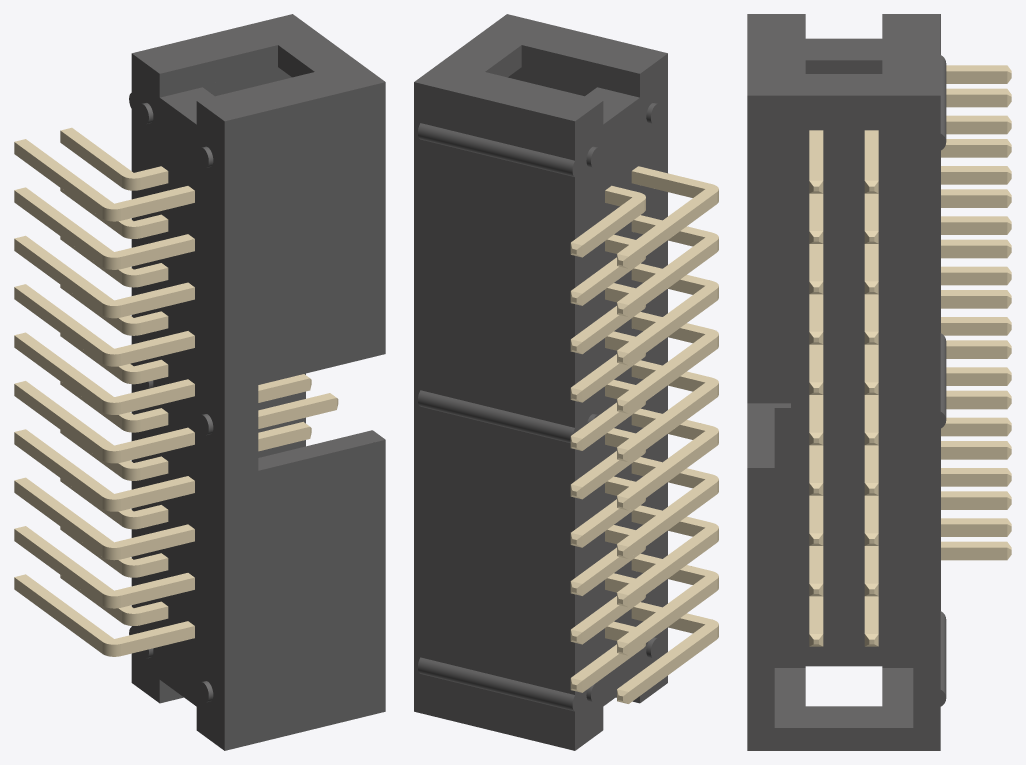
The model's file is IDC-Header_2x10_P2.54mm_Horizontal.glb.
3 views of the same model, side by side, from view 1: azimuth 30°, elevation 25°; view 2: azimuth 150°, elevation 25°; view 3: azimuth 270°, elevation 25° (orthographic). The views are drawn at different scales.
Parts seen in each view (by area): view 1: Shape_IndexedFaceSet, Shape_IndexedFaceSet.007, Shape_IndexedFaceSet.001, Shape_IndexedFaceSet.011, Shape_IndexedFaceSet.110, Shape_IndexedFaceSet.014, Shape_IndexedFaceSet.111, Shape_IndexedFaceSet.093, Shape_IndexedFaceSet.195, Shape_IndexedFaceSet.042, Shape_IndexedFaceSet.059, Shape_IndexedFaceSet.178 (+31 smaller); view 2: Shape_IndexedFaceSet.008, Shape_IndexedFaceSet.007, Shape_IndexedFaceSet.001, Shape_IndexedFaceSet.009, Shape_IndexedFaceSet.023, Shape_IndexedFaceSet.025, Shape_IndexedFaceSet.024, Shape_IndexedFaceSet.178, Shape_IndexedFaceSet.161, Shape_IndexedFaceSet.110, Shape_IndexedFaceSet.076, Shape_IndexedFaceSet.059 (+48 smaller); view 3: Shape_IndexedFaceSet.017, Shape_IndexedFaceSet.002, Shape_IndexedFaceSet.001, Shape_IndexedFaceSet.013, Shape_IndexedFaceSet.004, Shape_IndexedFaceSet.005, Shape_IndexedFaceSet.026, Shape_IndexedFaceSet.178, Shape_IndexedFaceSet.348, Shape_IndexedFaceSet.127, Shape_IndexedFaceSet.042, Shape_IndexedFaceSet.144 (+38 smaller).
Boxes of the visible parts, x1,y1,x2,y2 form: Shape_IndexedFaceSet: [224, 82, 385, 750]; Shape_IndexedFaceSet.007: [129, 53, 224, 750]; Shape_IndexedFaceSet.001: [132, 14, 384, 121]; Shape_IndexedFaceSet.011: [159, 45, 277, 97]; Shape_IndexedFaceSet.110: [14, 381, 336, 451]; Shape_IndexedFaceSet.014: [202, 67, 305, 457]; Shape_IndexedFaceSet.111: [121, 398, 336, 462]; Shape_IndexedFaceSet.093: [14, 429, 194, 499]; Shape_IndexedFaceSet.195: [14, 187, 194, 257]; Shape_IndexedFaceSet.042: [14, 574, 194, 644]; Shape_IndexedFaceSet.059: [14, 526, 194, 596]; Shape_IndexedFaceSet.178: [14, 139, 194, 209]; Shape_IndexedFaceSet.008: [414, 82, 574, 750]; Shape_IndexedFaceSet.007: [572, 53, 667, 750]; Shape_IndexedFaceSet.001: [414, 14, 667, 121]; Shape_IndexedFaceSet.009: [521, 45, 639, 97]; Shape_IndexedFaceSet.023: [418, 657, 574, 711]; Shape_IndexedFaceSet.025: [418, 123, 574, 176]; Shape_IndexedFaceSet.024: [418, 390, 574, 443]; Shape_IndexedFaceSet.178: [617, 166, 718, 256]; Shape_IndexedFaceSet.161: [617, 263, 718, 353]; Shape_IndexedFaceSet.110: [617, 408, 718, 498]; Shape_IndexedFaceSet.076: [617, 505, 718, 595]; Shape_IndexedFaceSet.059: [617, 553, 718, 643]; Shape_IndexedFaceSet.017: [774, 60, 913, 667]; Shape_IndexedFaceSet.002: [747, 95, 940, 750]; Shape_IndexedFaceSet.001: [747, 14, 940, 95]; Shape_IndexedFaceSet.013: [774, 668, 913, 727]; Shape_IndexedFaceSet.004: [747, 318, 790, 403]; Shape_IndexedFaceSet.005: [747, 403, 790, 467]; Shape_IndexedFaceSet.026: [805, 38, 882, 60]; Shape_IndexedFaceSet.178: [809, 65, 1007, 180]; Shape_IndexedFaceSet.348: [864, 88, 1007, 180]; Shape_IndexedFaceSet.127: [809, 266, 1007, 382]; Shape_IndexedFaceSet.042: [809, 518, 1007, 633]; Shape_IndexedFaceSet.144: [809, 216, 1007, 331].
Bounding box in the file's own units: 5.34 × 13.02 × 4.76.
